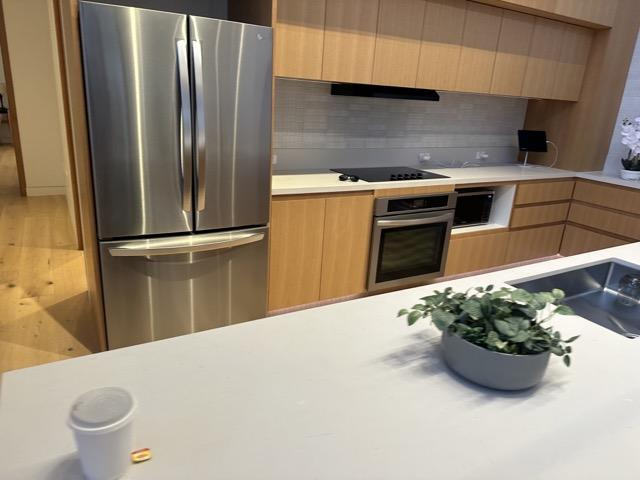Sunglasses: (339, 175, 361, 184)
